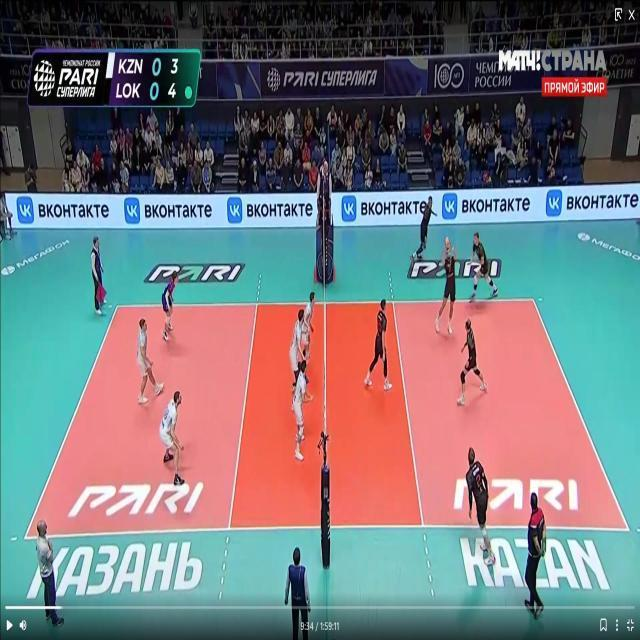volleyball: (445, 238, 454, 249)
